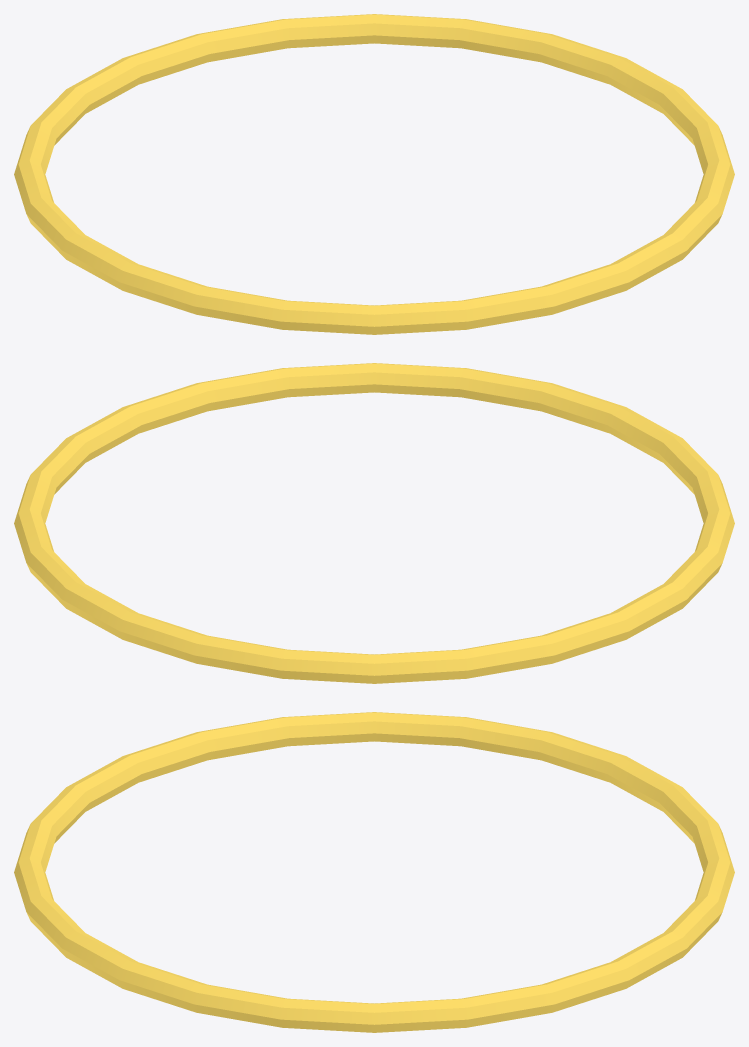
The model's file is PickupRing.glb.
3 views of the same model, one above another, from view 1: azimuth 30°, elevation 25°; view 2: azimuth 150°, elevation 25°; view 3: azimuth 270°, elevation 25° (orthographic).
Parts seen in each view (by area): view 1: PickupRing; view 2: PickupRing; view 3: PickupRing.
Part boxes in pixels (x1=…): PickupRing: x1=14, y1=14, x2=734, y2=334; PickupRing: x1=14, y1=363, x2=734, y2=683; PickupRing: x1=14, y1=712, x2=734, y2=1032.
Size of the model in its own units: 0.46 by 0.02 by 0.46.
